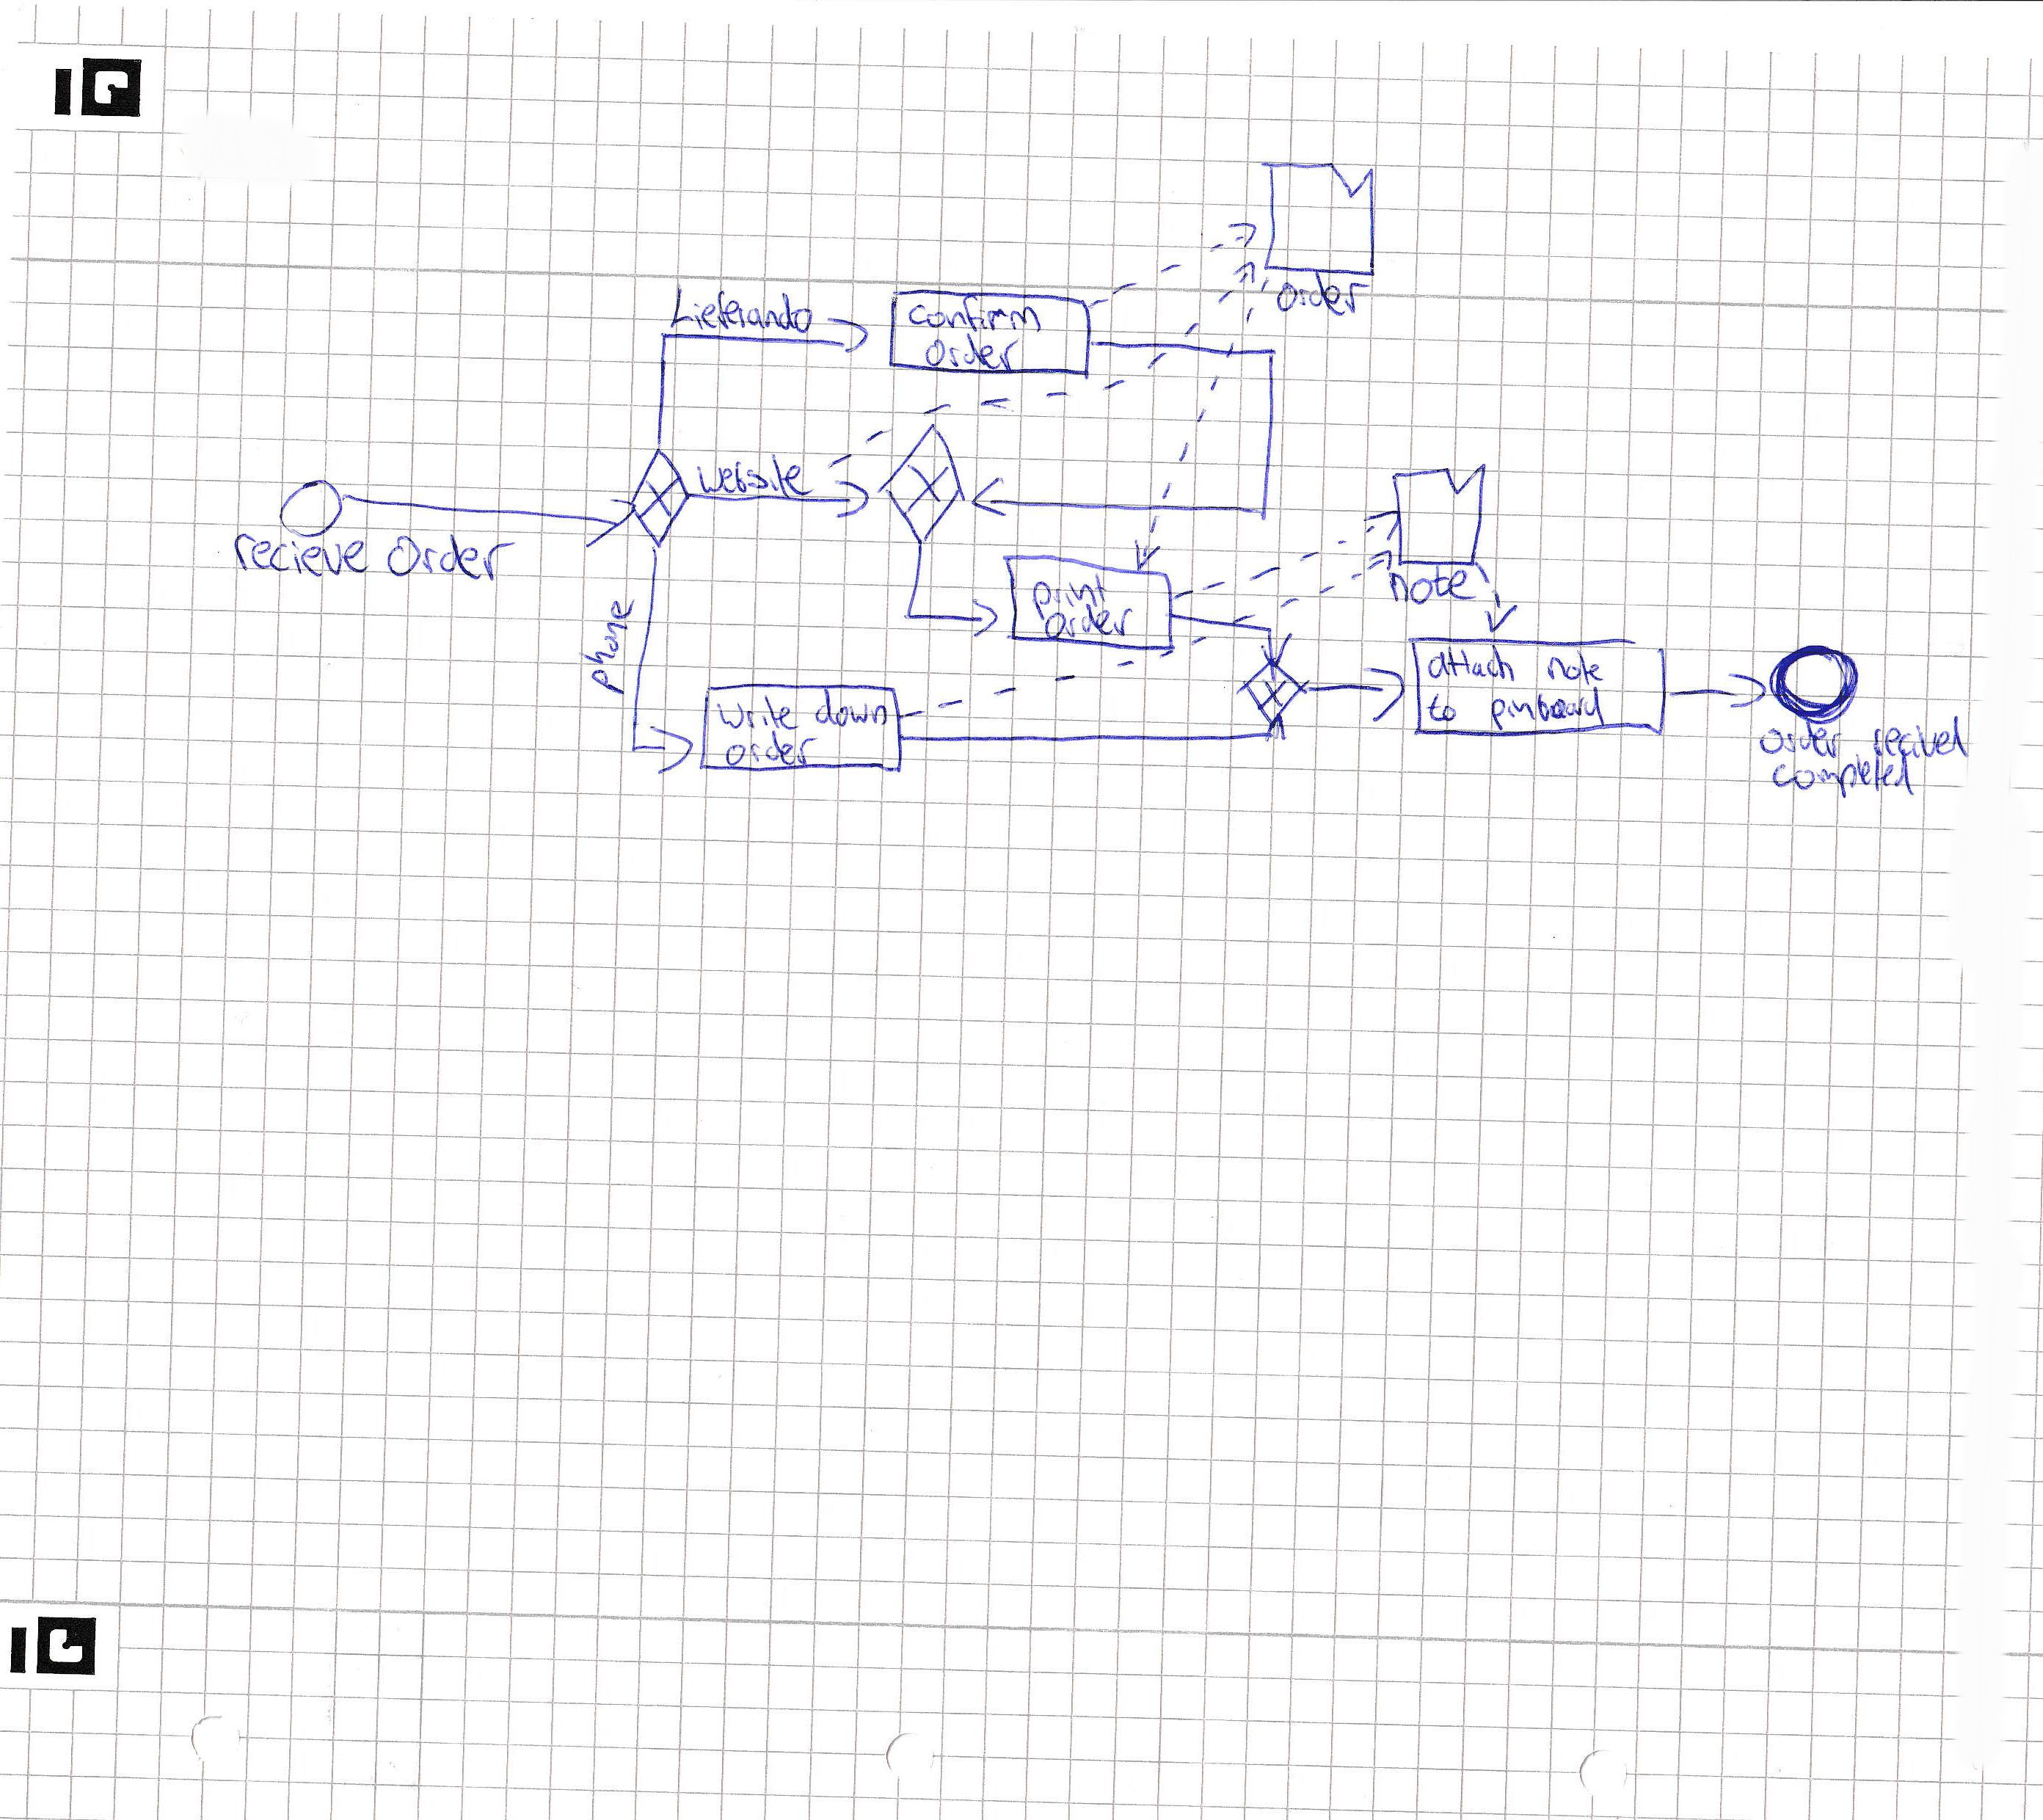Lieferando: (668, 285, 817, 334)
Order: (383, 531, 516, 581)
attach: (1425, 646, 1520, 682)
completed: (1769, 752, 1917, 796)
confirm: (905, 295, 1047, 334)
down: (813, 689, 892, 727)
note: (1384, 567, 1477, 606), (1542, 648, 1604, 689)
order: (1275, 272, 1370, 320), (1043, 601, 1137, 641), (924, 332, 1024, 369), (726, 729, 820, 768), (1757, 722, 1846, 759)
phone: (578, 597, 636, 694)
pinboard: (1486, 689, 1607, 727)
print: (1028, 571, 1112, 620)
received: (1869, 713, 1971, 759)
recieve: (230, 534, 372, 576)
to: (1425, 690, 1460, 726)
website: (692, 455, 817, 497)
write: (717, 694, 799, 733)
